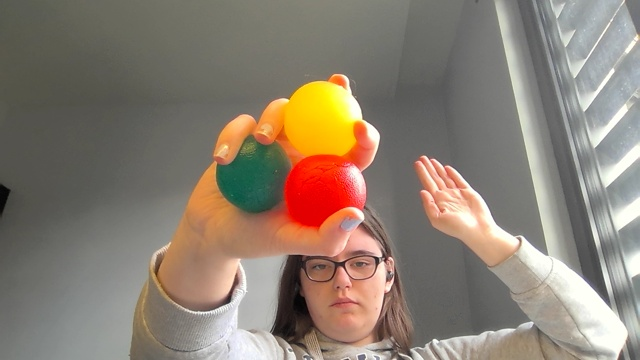ball: (283, 151, 370, 239), (284, 81, 365, 158), (215, 130, 287, 214)
hand: (413, 155, 488, 240)
